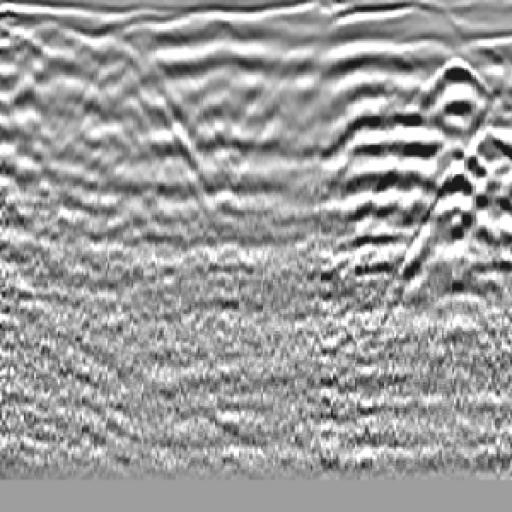non-metallic: (354, 39, 512, 274)
